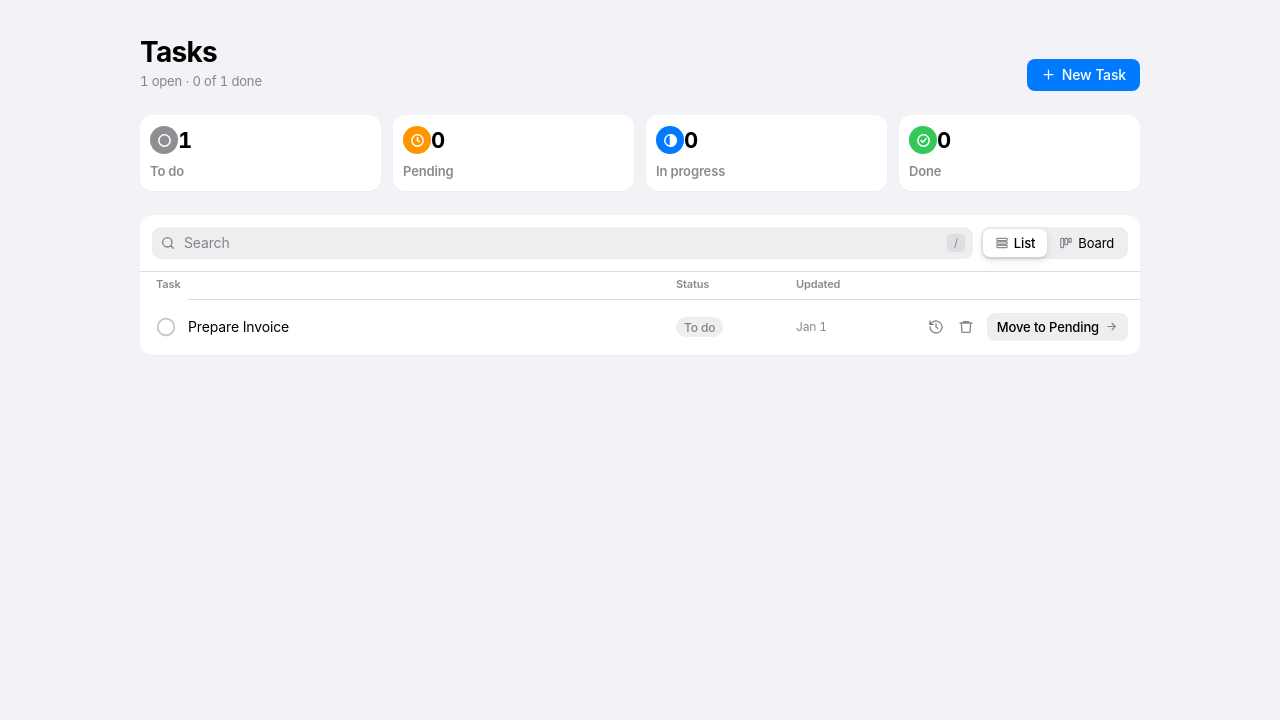
Scenario: TasksView › explains a stale click and resyncs the row
The width and height of the screenshot is (1280, 720).
Step 1. Click the button "Move to Pending" → point(1057, 327), box [987,313,1128,341]
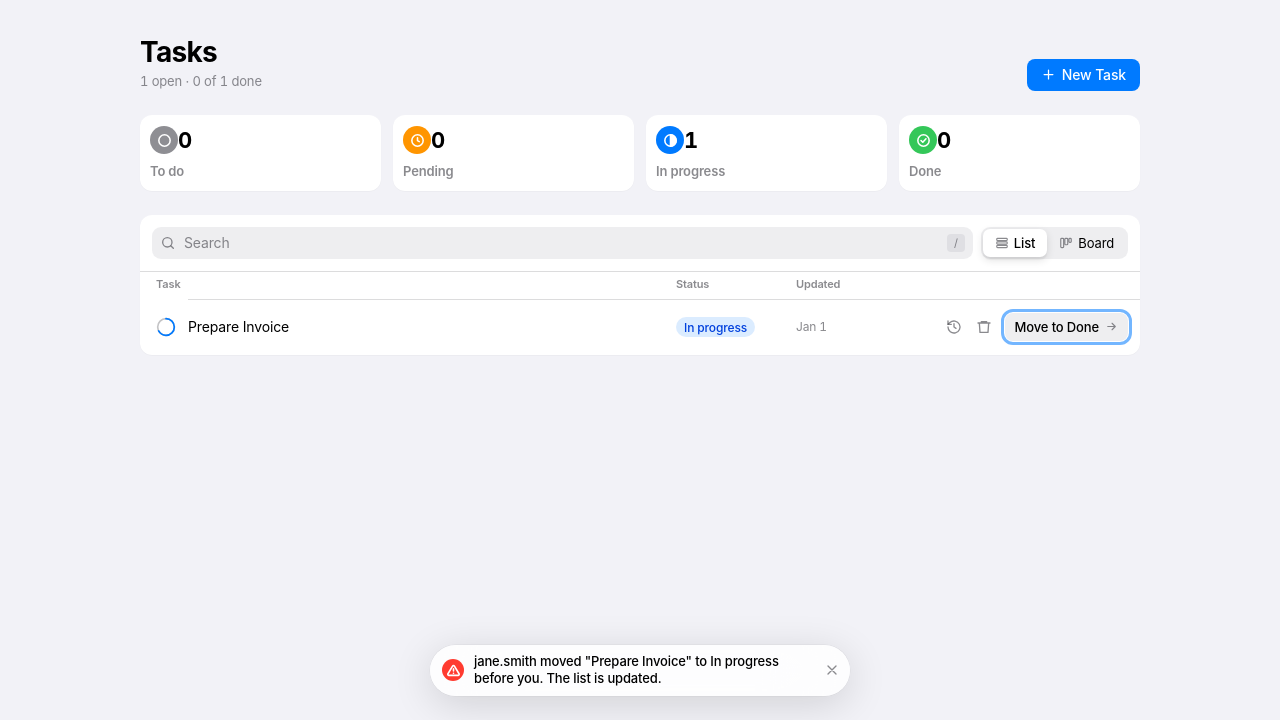
Now the message shows "jane.smith moved \"Prepare Invoice\" to In progress before you", box [474,653,779,686]
Now the button "Move to Done" is shown, box [1005,313,1128,341]
